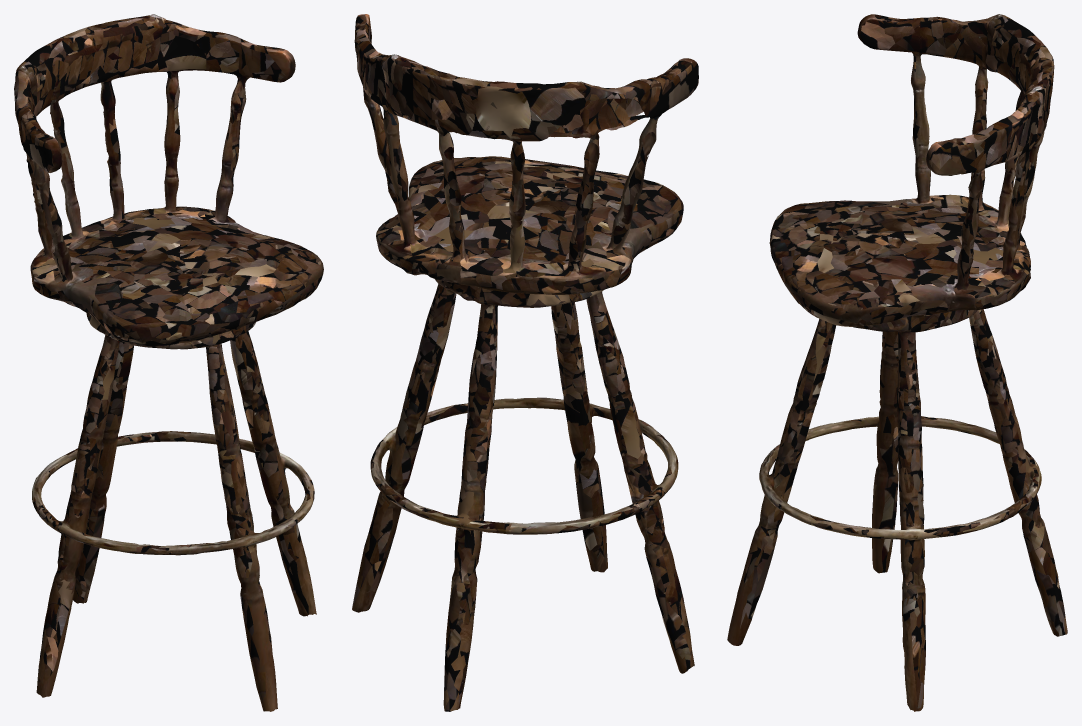
File: scan_chair_1.glb
3 renders of one model, left to right at view 1: azimuth 30°, elevation 25°; view 2: azimuth 150°, elevation 25°; view 3: azimuth 270°, elevation 25°, orthographic. The views are drawn at different scales.
Visible parts, largest first — view 1: unnamed_n3d; view 2: unnamed_n3d; view 3: unnamed_n3d.
Boxes of the visible parts, bbox=[...] form: unnamed_n3d: bbox=[14, 14, 323, 711]; unnamed_n3d: bbox=[352, 14, 698, 711]; unnamed_n3d: bbox=[727, 14, 1067, 711].
Bounding box in the file's own units: 2.7 × 5.05 × 2.7.
12 materials, 12 textured.
